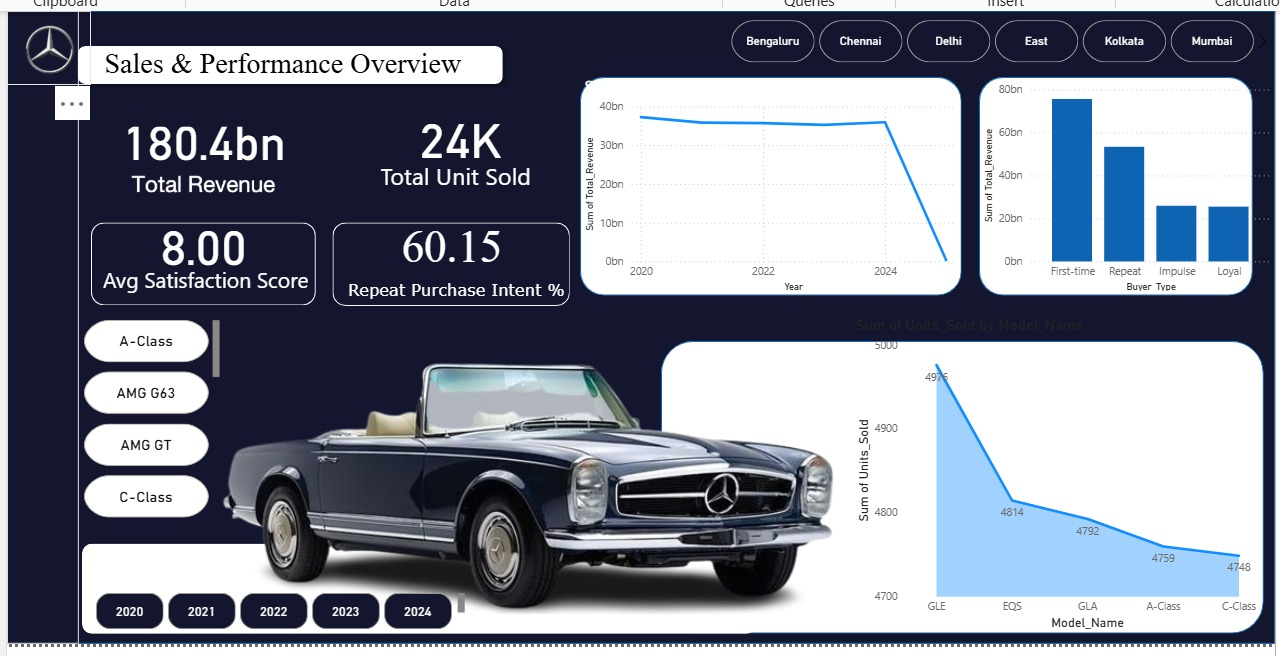

What the dashboard file says about the page in this screenshot:
{"tool":"powerbi","page":{"name":"Page 2","canvas":[1443,720],"ordinal":1},"visuals":[{"type":"shape","box":[47.1,31.4,767.1,102.9],"z":0},{"type":"shape","box":[0,0,1442.9,720],"z":1000},{"type":"shape","box":[0,0,81.7,720],"z":2000},{"type":"shape","box":[370,240,270,95],"z":3000},{"type":"shape","box":[95.7,240,255.7,94.3],"z":4000},{"type":"shape","box":[652.9,75.7,434.3,248.6],"z":5000},{"type":"shape","box":[1105.7,75.7,311.4,248.6],"z":6000},{"type":"shape","box":[744.3,375.7,685.7,332.9],"z":7000},{"type":"shape","box":[85.7,605.7,767.1,102.9],"z":8000},{"type":"image","box":[210,394.3,765.7,297.1],"z":9000},{"type":"card","fields":{"Values":["Sum(CarSalesMaster.Total_Revenue)"]},"box":[114.3,125.7,218.6,54.3],"z":10000},{"type":"image","box":[121.4,164.3,205.7,71.4],"z":11000},{"type":"card","fields":{"Values":["Sum(CarSalesMaster.Units_Sold)"]},"box":[420,122.9,191.4,57.1],"z":12000},{"type":"textbox","box":[420,164.3,202.9,51.4],"z":13000},{"type":"card","title":"hekko","fields":{"Values":["Avg(CarSalesMaster.Satisfaction_Score)"]},"box":[95.7,240,255.7,64.3],"z":14000},{"type":"textbox","box":[104.3,282.9,264.3,51.4],"z":15000},{"type":"columnChart","fields":{"Category":["CarSalesMaster.Buyer_Type"],"Y":["Sum(CarSalesMaster.Total_Revenue)"]},"box":[1105.7,75.7,337.1,248.6],"z":16000},{"type":"lineChart","fields":{"Category":["CarSalesMaster.Year"],"Y":["Sum(CarSalesMaster.Total_Revenue)"]},"box":[652.9,75.7,434.3,248.6],"z":17000},{"type":"stackedAreaChart","fields":{"Category":["CarSalesMaster.Model_Name"],"Y":["Sum(Cars.Units_Sold)"]},"box":[961.7,346.7,480,361.7],"z":18000},{"type":"advancedSlicerVisual","fields":{"Values":["CarSalesMaster.Model_Name"]},"box":[81.4,347.1,165.7,235.7],"z":19000},{"type":"textbox","box":[95.7,670,137.1,38.6],"z":20000},{"type":"shape","box":[71.4,31.4,501.4,61.4],"z":21000},{"type":"textbox","box":[105.7,35.7,447.1,47.1],"z":22000},{"type":"advancedSlicerVisual","fields":{"Values":["CarSalesMaster.Region"]},"box":[798.3,5,645,58.3],"z":23000},{"type":"advancedSlicerVisual","fields":{"Values":["CarSalesMaster.Date_of_Purchase.Variation.Date Hierarchy.Year"]},"box":[95,656.7,430,51.7],"z":24000},{"type":"card","fields":{"Values":["Cars.Repeat_Purchase_Pctt"]},"box":[428.3,216.7,155,95],"z":25000},{"type":"textbox","box":[358.3,300,306.7,46.7],"z":26000},{"type":"image","box":[0,0,95,83.3],"z":27000}]}

Visuals, with their boxes in screenshot pixels (x1, y1, x2, y2):
shape: (x1=45, y1=34, x2=716, y2=124)
shape: (x1=3, y1=7, x2=1266, y2=637)
shape: (x1=3, y1=7, x2=75, y2=637)
shape: (x1=327, y1=217, x2=563, y2=300)
shape: (x1=87, y1=217, x2=311, y2=299)
shape: (x1=574, y1=73, x2=954, y2=290)
shape: (x1=971, y1=73, x2=1243, y2=290)
shape: (x1=654, y1=335, x2=1254, y2=627)
shape: (x1=78, y1=537, x2=749, y2=627)
image: (x1=187, y1=352, x2=857, y2=611)
card - Sum(CarSalesMaster.Total_Revenue): (x1=103, y1=117, x2=295, y2=164)
image: (x1=110, y1=150, x2=289, y2=213)
card - Sum(CarSalesMaster.Units_Sold): (x1=371, y1=114, x2=538, y2=164)
textbox: (x1=371, y1=150, x2=548, y2=195)
"hekko" card: (x1=87, y1=217, x2=311, y2=273)
textbox: (x1=95, y1=254, x2=326, y2=299)
columnChart - CarSalesMaster.Buyer_Type x Sum(CarSalesMaster.Total_Revenue): (x1=971, y1=73, x2=1265, y2=290)
lineChart - CarSalesMaster.Year x Sum(CarSalesMaster.Total_Revenue): (x1=574, y1=73, x2=954, y2=290)
stackedAreaChart - CarSalesMaster.Model_Name x Sum(Cars.Units_Sold): (x1=845, y1=310, x2=1265, y2=626)
advancedSlicerVisual - CarSalesMaster.Model_Name: (x1=75, y1=310, x2=219, y2=516)
textbox: (x1=87, y1=593, x2=207, y2=627)
shape: (x1=66, y1=34, x2=504, y2=88)
textbox: (x1=96, y1=38, x2=487, y2=79)
advancedSlicerVisual - CarSalesMaster.Region: (x1=702, y1=11, x2=1266, y2=62)
advancedSlicerVisual - CarSalesMaster.Date_of_Purchase.Variation.Date Hierarchy.Year: (x1=86, y1=581, x2=463, y2=626)
card - Cars.Repeat_Purchase_Pctt: (x1=378, y1=196, x2=514, y2=279)
textbox: (x1=317, y1=269, x2=585, y2=310)
image: (x1=3, y1=7, x2=86, y2=80)
